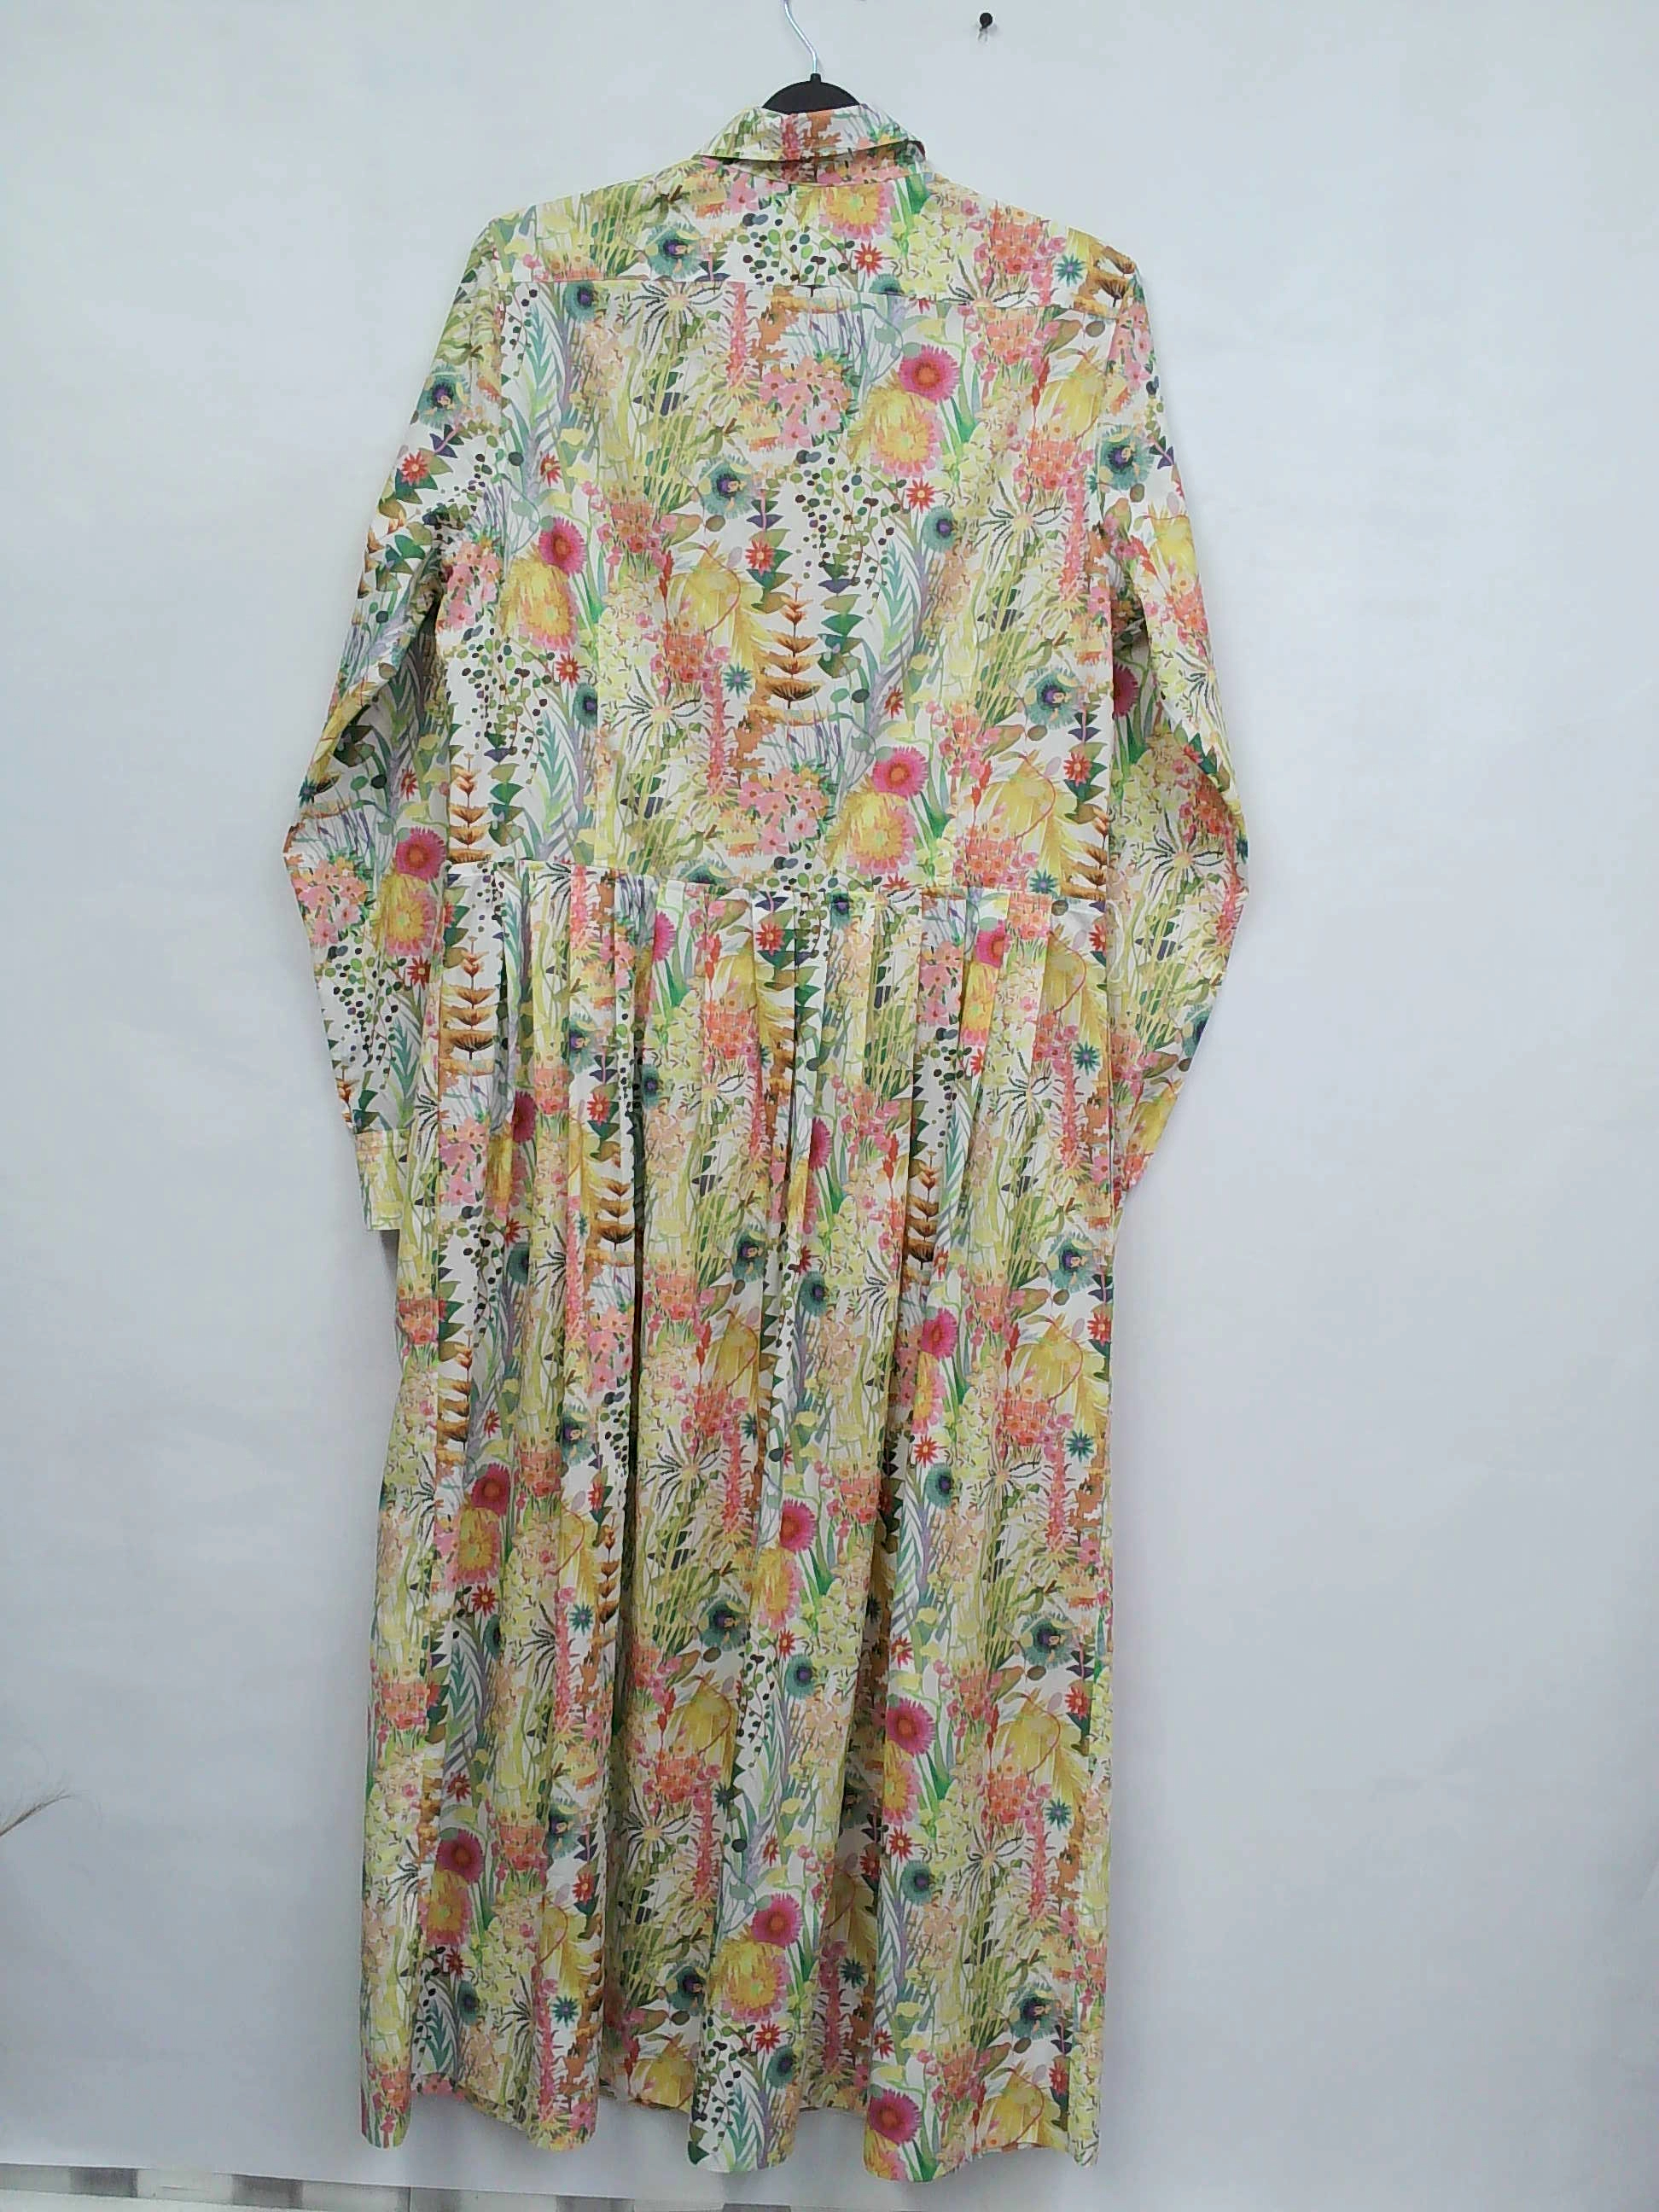seam: (453, 826, 694, 921)
